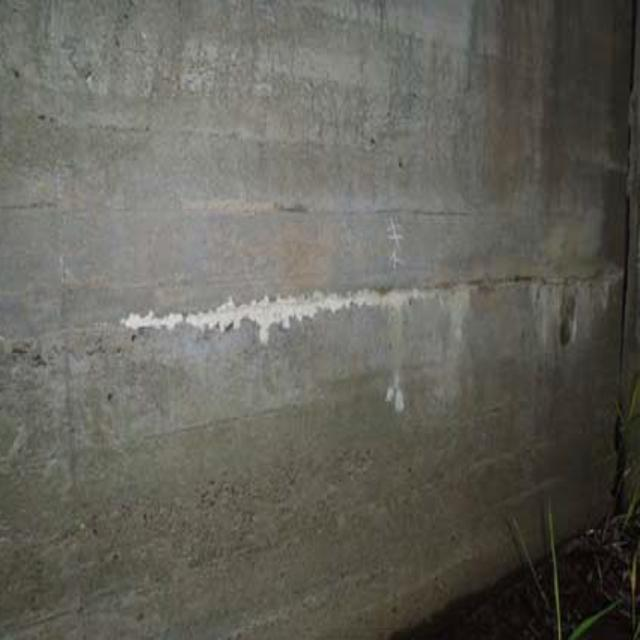freelime: (101, 276, 468, 333)
